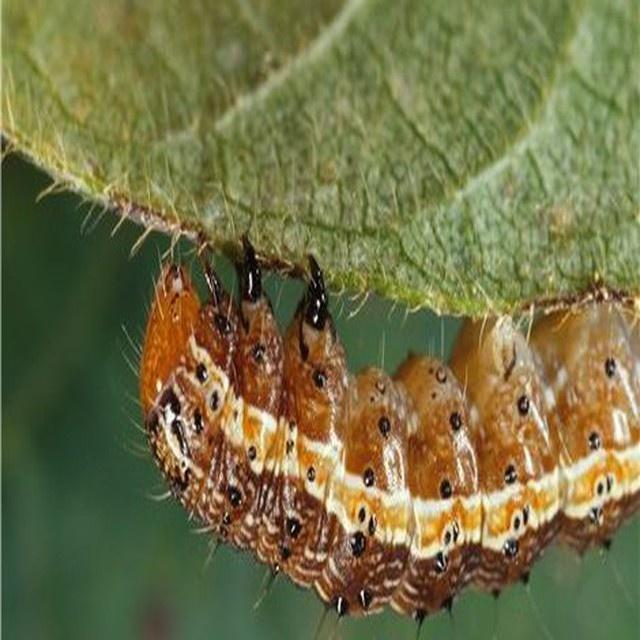gusano_cogollero: (129, 234, 640, 640)
